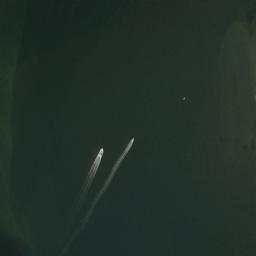boat: (98, 144, 104, 158), (129, 135, 135, 145)
